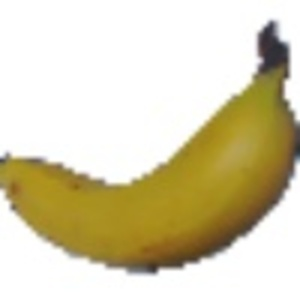banana: (5, 37, 297, 273)
